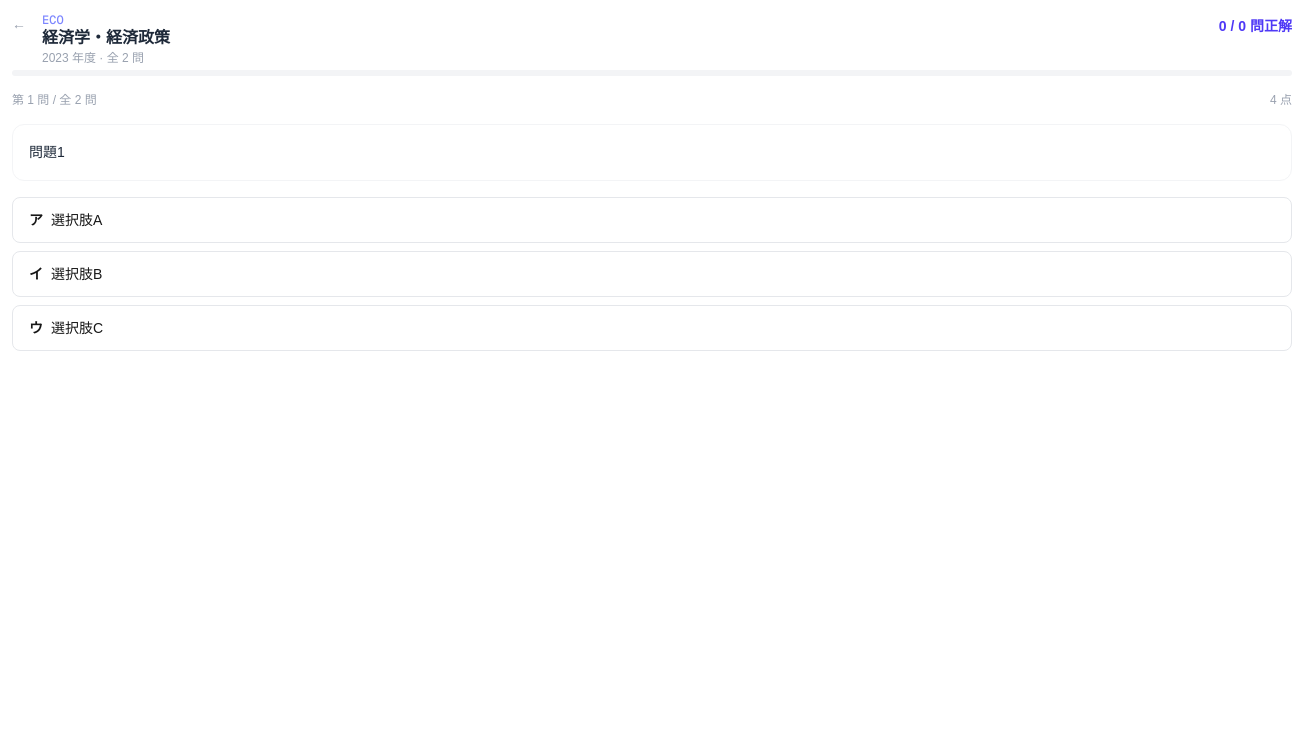
Scenario: QuizSession › 複数問題・完走フロー › 全問完走後に完了画面が表示される
Step 1. Click the button "選択肢A" → coordinates (77, 220), box [12,197,1292,243]
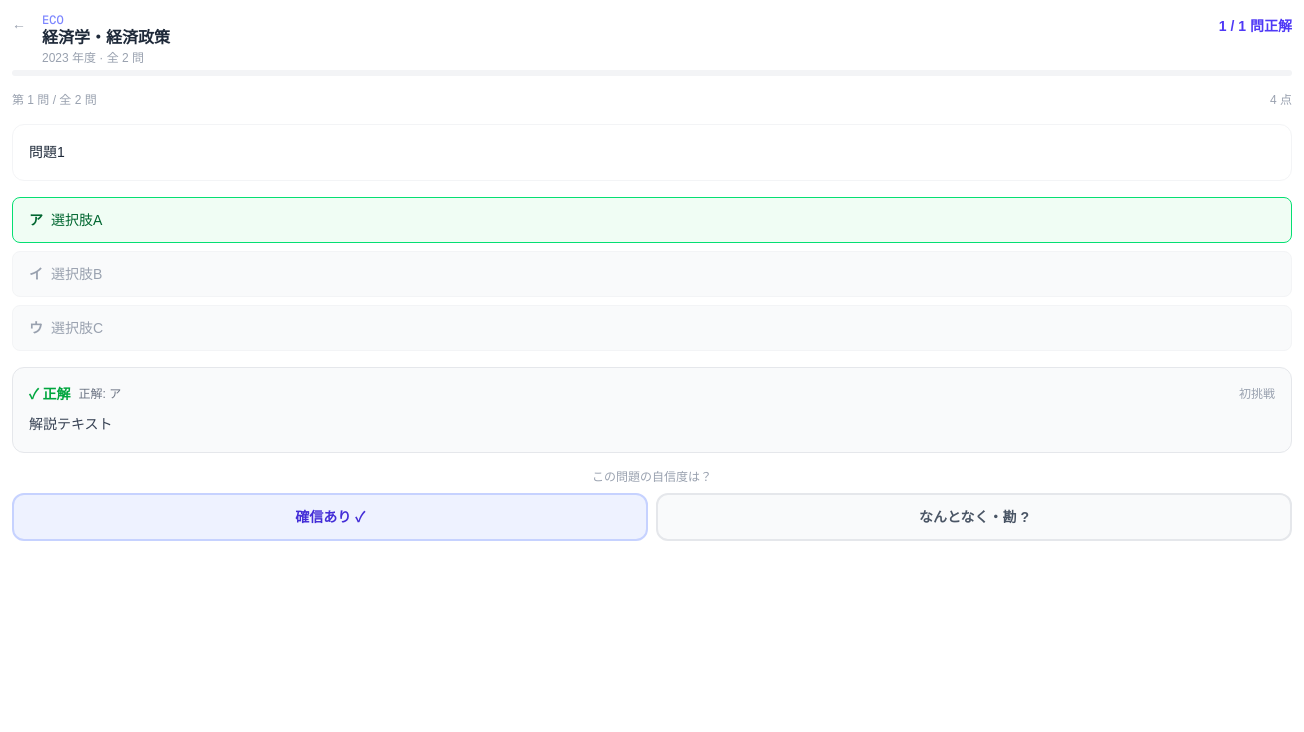
Step 2. Click the button "確信あり ✓" → coordinates (330, 517), box [12,493,648,541]
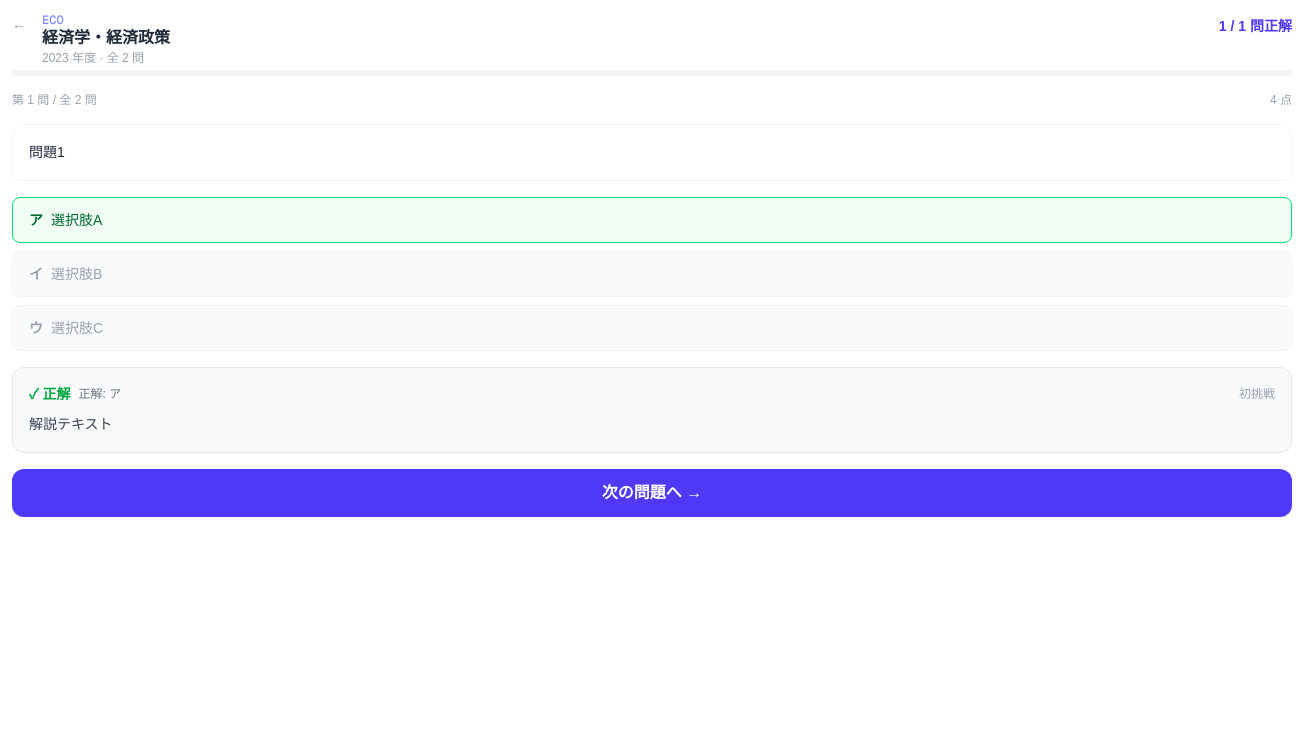
Step 3. Click the button "次の問題へ →" → coordinates (652, 493), box [12,469,1292,517]
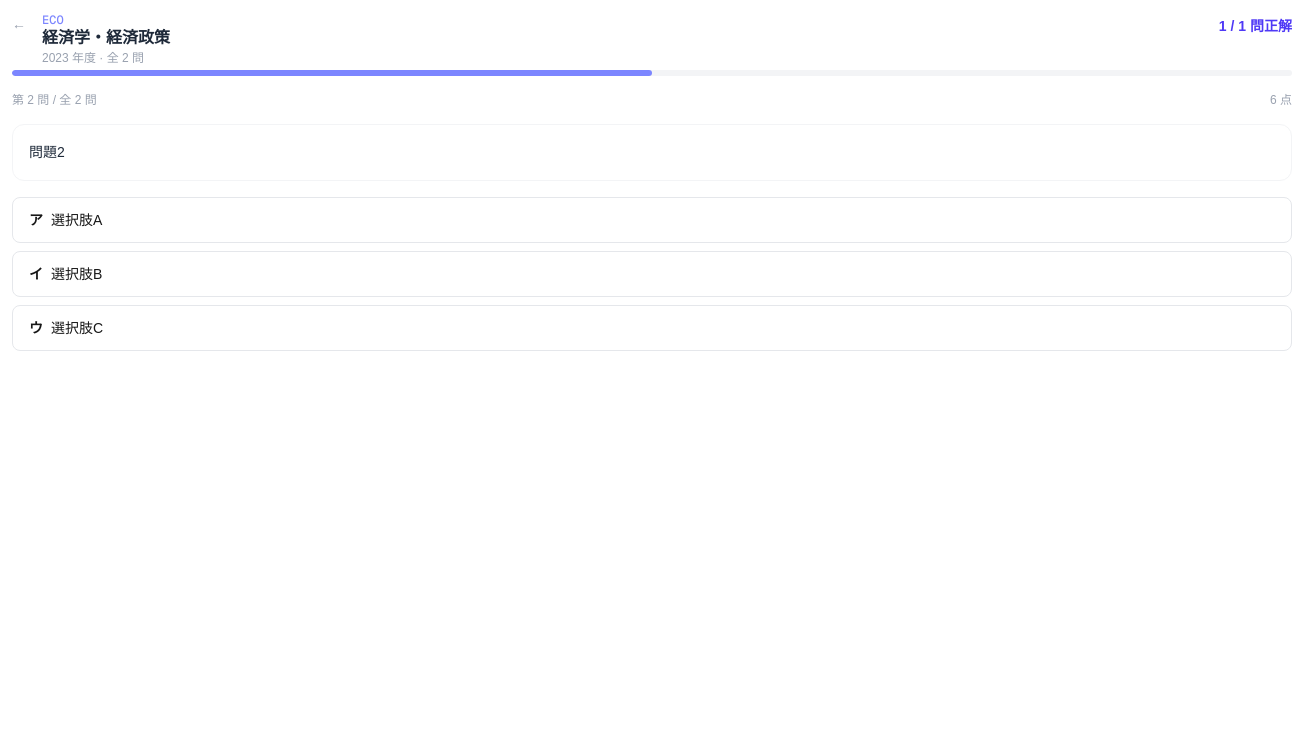
Step 4. Click the button "選択肢B" → coordinates (77, 274), box [12,251,1292,297]
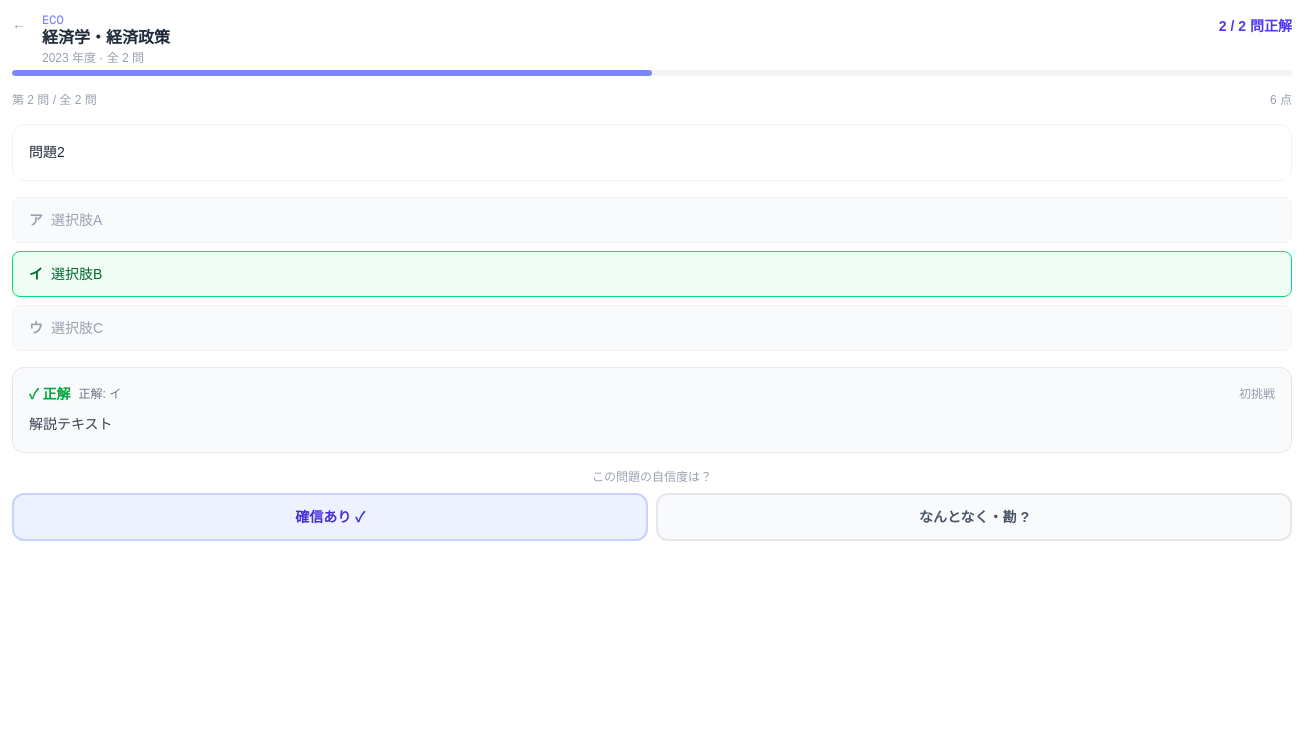
Step 5. Click the button "確信あり ✓" → coordinates (330, 517), box [12,493,648,541]
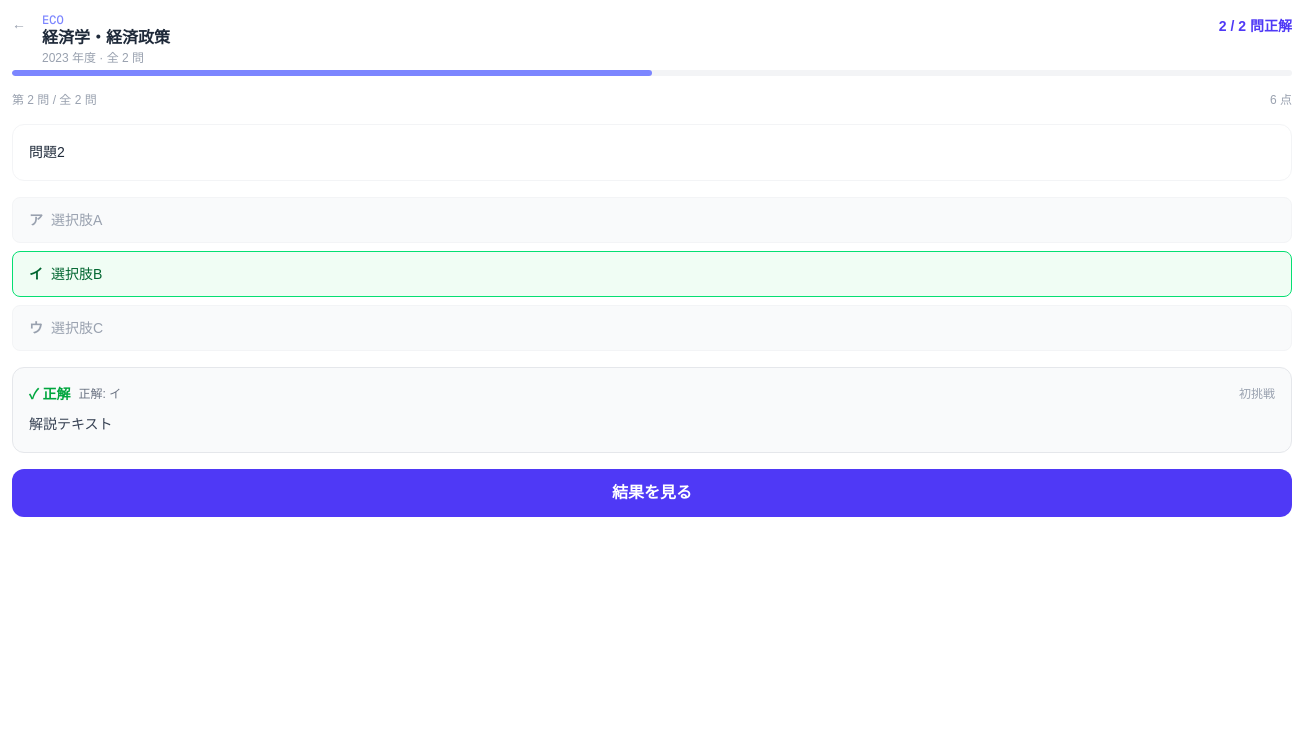
Step 6. Click the button "結果を見る" → coordinates (652, 493), box [12,469,1292,517]
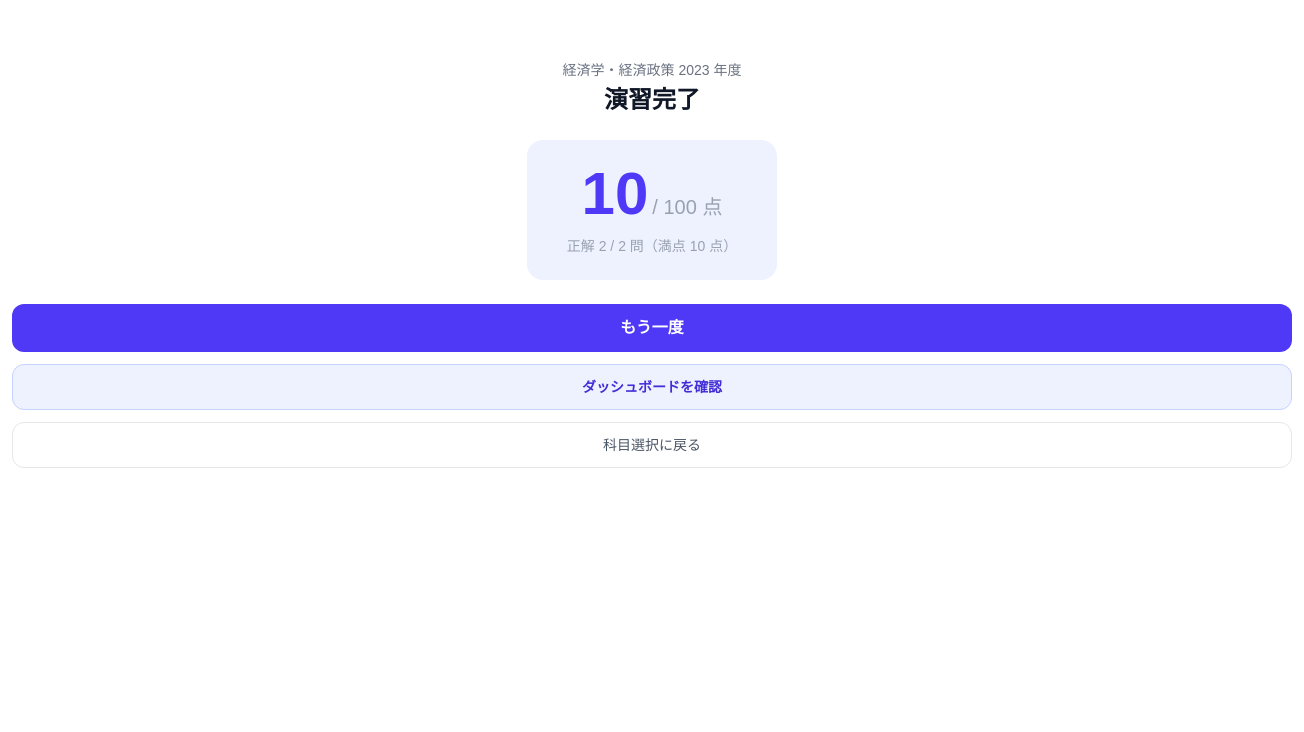
Expected: the heading "演習完了" is shown, [604,86,700,113]
